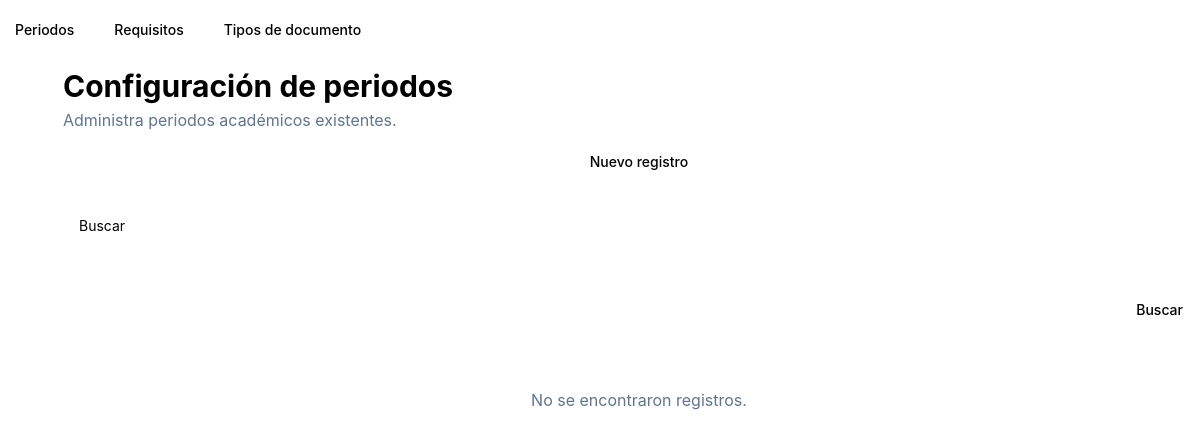
it: Configuración de tipos de documento › consulta el endpoint y muestra el estado vacío
This screenshot has width=1200, height=427.
Click the button "Tipos de documento". click: (292, 30)
box: [208, 12, 377, 48]
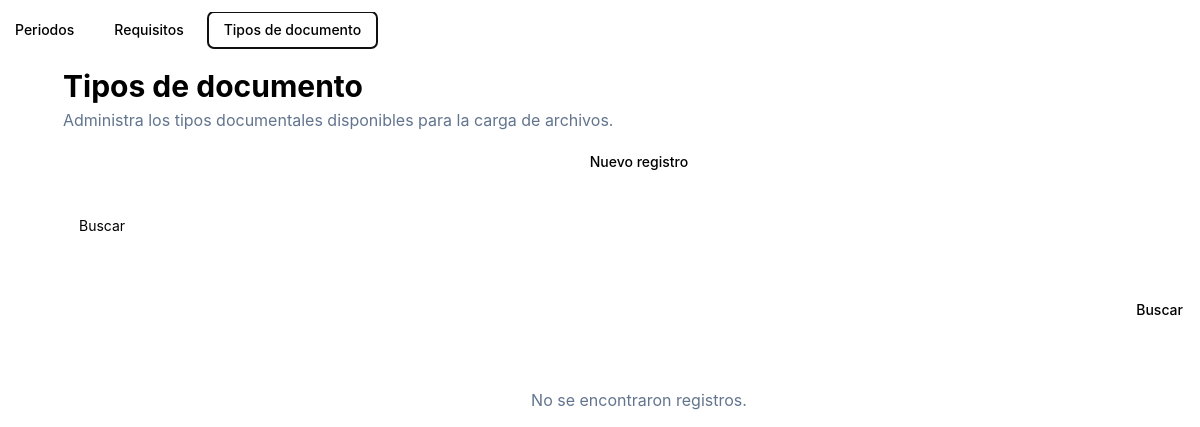
Expected: the text "No se encontraron registros." is shown, [531, 390, 747, 410]
Result: the heading "Tipos de documento" is shown at [63, 68, 363, 104]
